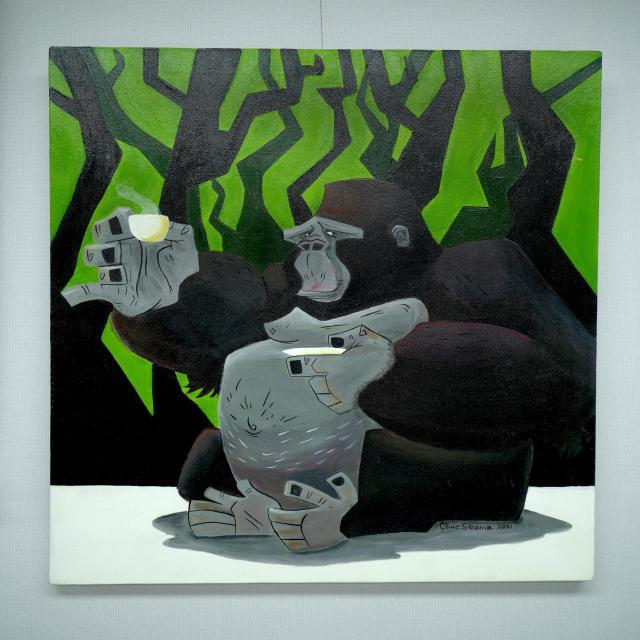painting: (50, 47, 600, 583)
